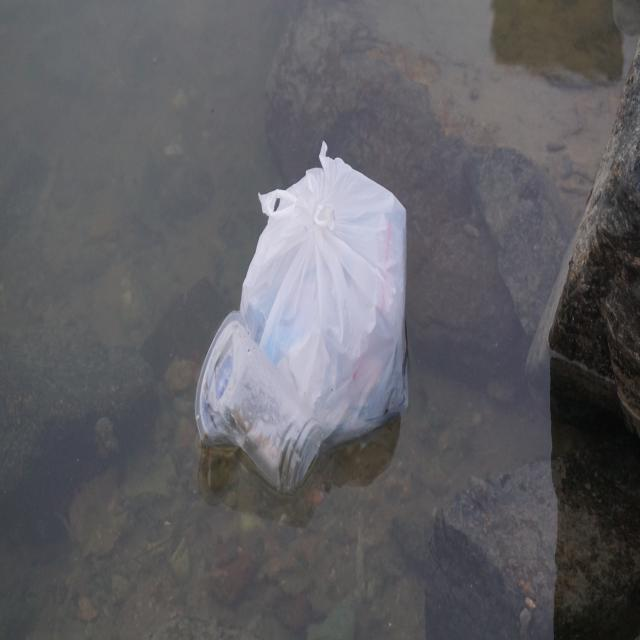Bungkus Minuman: (196, 310, 323, 504)
Kantong Plastik: (247, 141, 423, 448)
